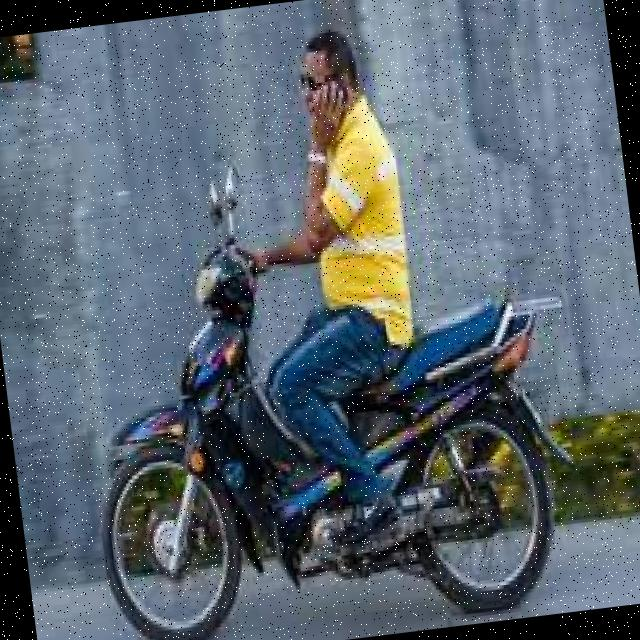Using mobile: (272, 18, 399, 207)
